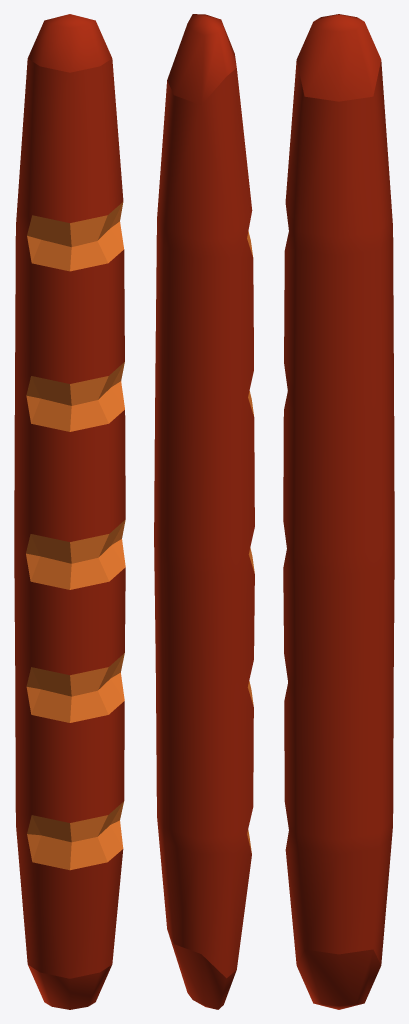
The model's file is Produce_Baguette.fbx.
The picture shows the model from 3 angles, left to right: view 1: azimuth 90°, elevation 25°; view 2: azimuth 210°, elevation 25°; view 3: azimuth 270°, elevation 25°; orthographic projection.
Visible parts, largest first — view 1: Cylinder005; view 2: Cylinder005; view 3: Cylinder005.
Boxes of the visible parts, x1=… form: Cylinder005: x1=14, y1=14, x2=125, y2=1009; Cylinder005: x1=154, y1=14, x2=254, y2=1009; Cylinder005: x1=283, y1=14, x2=394, y2=1009.
Bounding box in the file's own units: 5.81 × 60.23 × 6.12.
